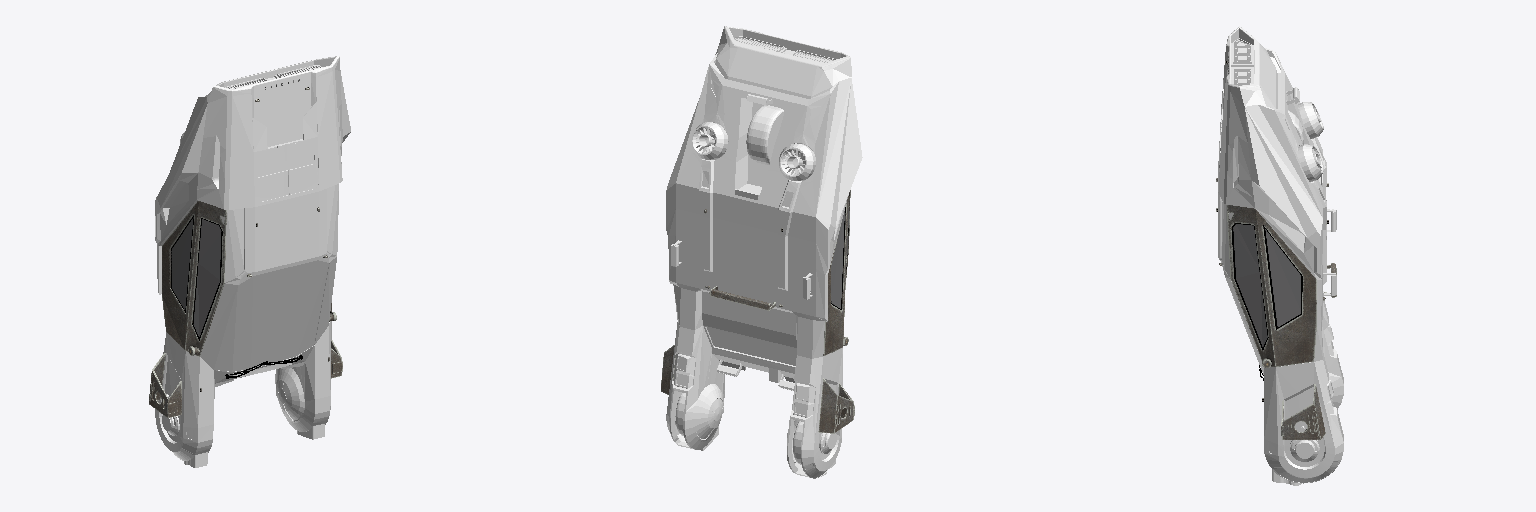
3 renders of one model, left to right at view 1: azimuth 30°, elevation 25°; view 2: azimuth 150°, elevation 25°; view 3: azimuth 270°, elevation 25°, orthographic.
Parts seen in each view (by area): view 1: 3DGeom~1, 3DGeom~5, 3DGeom~19, 3DGeom~21, wheelcocer_01; view 2: 3DGeom~1, rearwheel, 3DGeom~5, 3DGeom~19, wheelcocer_01, ReaThruster_01, ReaThruster, 3DGeom~21, frontthruster, frontthruster_01, 3DGeom~13; view 3: 3DGeom~1, 3DGeom~6, 3DGeom~8, wheelcocer, 3DGeom~13, ReaThruster, ReaThruster_01, hub.
Part boxes in pixels (bbox=[...]): 3DGeom~1: bbox=[155, 56, 350, 467]; 3DGeom~5: bbox=[214, 260, 328, 371]; 3DGeom~19: bbox=[162, 201, 226, 356]; 3DGeom~21: bbox=[171, 216, 222, 340]; wheelcocer_01: bbox=[149, 353, 181, 417]; 3DGeom~1: bbox=[666, 26, 862, 478]; rearwheel: bbox=[746, 105, 783, 164]; 3DGeom~5: bbox=[707, 328, 796, 365]; 3DGeom~19: bbox=[823, 190, 850, 355]; wheelcocer_01: bbox=[818, 378, 854, 433]; ReaThruster_01: bbox=[779, 143, 815, 180]; ReaThruster: bbox=[692, 122, 727, 159]; 3DGeom~21: bbox=[831, 207, 848, 309]; frontthruster: bbox=[673, 353, 695, 388]; frontthruster_01: bbox=[793, 382, 815, 417]; 3DGeom~13: bbox=[734, 37, 835, 62]; 3DGeom~1: bbox=[1218, 26, 1343, 485]; 3DGeom~6: bbox=[1227, 205, 1316, 367]; 3DGeom~8: bbox=[1232, 223, 1302, 349]; wheelcocer: bbox=[1281, 384, 1325, 439]; 3DGeom~13: bbox=[1231, 39, 1253, 85]; ReaThruster: bbox=[1298, 144, 1323, 181]; ReaThruster_01: bbox=[1298, 102, 1323, 138]; hub: bbox=[1290, 426, 1319, 462].
Size of the model in its own units: 0.4134 by 0.9002 by 0.2612.
29 materials, 8 textured.